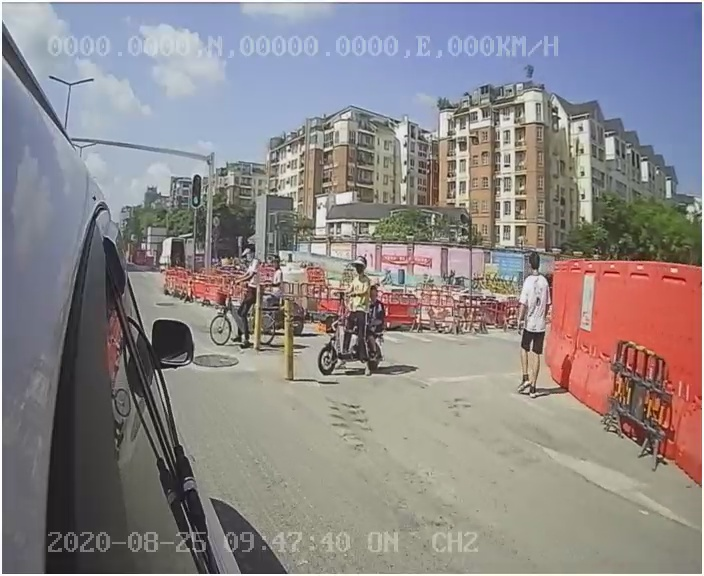person: (506, 251, 558, 403)
